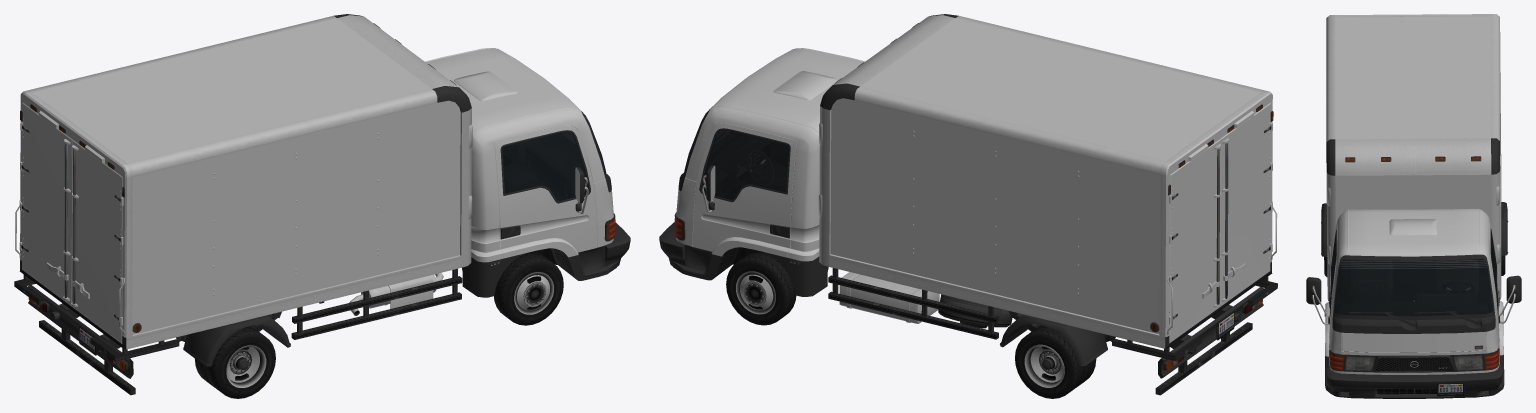
3 views of the same model, side by side, from view 1: azimuth 30°, elevation 25°; view 2: azimuth 150°, elevation 25°; view 3: azimuth 270°, elevation 25° (orthographic). The views are drawn at different scales.
Visible parts, largest first — view 1: LCT300095_Body_lct3000_Bodymat_0, LCT300095_Bottom_UCB_BOTTOM_0, LCT300095_Reardoor_Left_lct3000_Bodymat_0, LCT300095_Reardoor_Right_lct3000_Bodymat_0, LCT300095_Glass_Passenger_UCB_Lights_and_Glass_Transperent_0, LCT300095_Interior_UCB_Interiors_2_0, LCT300095_WheelStock_FR_RB1c_Tire_1k_0, LCT300095_WheelStock_RR_RB1c_Tire_1k_0, LCT300095_Bumper_rear_UCB_BOTTOM_0, LCT300095_Reardoor_Left_Inner_UCB_BOTTOM_0, LCT300095_Reardoor_Right_Inner_UCB_BOTTOM_0, LCT300095_Bumper_front_UCB_BOTTOM_0; view 2: LCT300095_Body_lct3000_Bodymat_0, LCT300095_Bottom_UCB_BOTTOM_0, LCT300095_Reardoor_Right_lct3000_Bodymat_0, LCT300095_Reardoor_Left_lct3000_Bodymat_0, LCT300095_Glass_Driver_UCB_Lights_and_Glass_Transperent_0, LCT300095_WheelStock_FL_RB1c_Tire_1k_0, LCT300095_WheelStock_RL_RB1c_Tire_1k_0, LCT300095_Interior_UCB_Interiors_2_0, LCT300095_Bumper_rear_UCB_BOTTOM_0, LCT300095_Reardoor_Right_Inner_UCB_BOTTOM_0, LCT300095_Reardoor_Left_Inner_UCB_BOTTOM_0, LCT300095_Bumper_front_UCB_BOTTOM_0; view 3: LCT300095_Body_lct3000_Bodymat_0, LCT300095_Bottom_UCB_BOTTOM_0, LCT300095_Windshield_UCB_Lights_and_Glass_Transperent_0, LCT300095_Interior_UCB_Interiors_2_0, LCT300095_Bumper_front_UCB_BOTTOM_0, LCT300095_Headlights_Glass_UCB_Lights_and_Glass_Transperent_, LCT300095_Headlights_UCB_Lights_and_Glass_0, LCT300095_Numberplate_front_Numberplates_Misk_U_0, LCT300095_Glass_Driver_UCB_Lights_and_Glass_Transperent_0.
Boxes of the visible parts, box(x1,y1,x2,y2) form: LCT300095_Body_lct3000_Bodymat_0: box(19, 18, 613, 337); LCT300095_Bottom_UCB_BOTTOM_0: box(14, 14, 615, 395); LCT300095_Reardoor_Left_lct3000_Bodymat_0: box(22, 102, 72, 306); LCT300095_Reardoor_Right_lct3000_Bodymat_0: box(72, 140, 122, 343); LCT300095_Glass_Passenger_UCB_Lights_and_Glass_Transperent_0: box(502, 132, 589, 201); LCT300095_Interior_UCB_Interiors_2_0: box(503, 134, 605, 200); LCT300095_WheelStock_FR_RB1c_Tire_1k_0: box(494, 253, 563, 325); LCT300095_WheelStock_RR_RB1c_Tire_1k_0: box(195, 326, 275, 398); LCT300095_Bumper_rear_UCB_BOTTOM_0: box(28, 285, 133, 378); LCT300095_Reardoor_Left_Inner_UCB_BOTTOM_0: box(21, 125, 70, 300); LCT300095_Reardoor_Right_Inner_UCB_BOTTOM_0: box(71, 145, 122, 320); LCT300095_Bumper_front_UCB_BOTTOM_0: box(605, 223, 630, 273); LCT300095_Body_lct3000_Bodymat_0: box(676, 18, 1272, 336); LCT300095_Bottom_UCB_BOTTOM_0: box(674, 14, 1277, 395); LCT300095_Reardoor_Right_lct3000_Bodymat_0: box(1219, 103, 1270, 306); LCT300095_Reardoor_Left_lct3000_Bodymat_0: box(1169, 139, 1220, 343); LCT300095_Glass_Driver_UCB_Lights_and_Glass_Transperent_0: box(701, 130, 788, 200); LCT300095_WheelStock_FL_RB1c_Tire_1k_0: box(726, 252, 796, 325); LCT300095_WheelStock_RL_RB1c_Tire_1k_0: box(1015, 325, 1096, 398); LCT300095_Interior_UCB_Interiors_2_0: box(685, 132, 788, 199); LCT300095_Bumper_rear_UCB_BOTTOM_0: box(1158, 287, 1263, 378); LCT300095_Reardoor_Right_Inner_UCB_BOTTOM_0: box(1221, 125, 1271, 301); LCT300095_Reardoor_Left_Inner_UCB_BOTTOM_0: box(1169, 144, 1221, 319); LCT300095_Bumper_front_UCB_BOTTOM_0: box(659, 222, 685, 273); LCT300095_Body_lct3000_Bodymat_0: box(1325, 16, 1503, 374); LCT300095_Bottom_UCB_BOTTOM_0: box(1306, 14, 1521, 388); LCT300095_Windshield_UCB_Lights_and_Glass_Transperent_0: box(1334, 258, 1493, 316); LCT300095_Interior_UCB_Interiors_2_0: box(1331, 239, 1497, 315); LCT300095_Bumper_front_UCB_BOTTOM_0: box(1325, 366, 1503, 398); LCT300095_Headlights_Glass_UCB_Lights_and_Glass_Transperent_: box(1329, 349, 1499, 371); LCT300095_Headlights_UCB_Lights_and_Glass_0: box(1345, 355, 1483, 370); LCT300095_Numberplate_front_Numberplates_Misk_U_0: box(1438, 384, 1462, 394); LCT300095_Glass_Driver_UCB_Lights_and_Glass_Transperent_0: box(1491, 232, 1497, 309).
Bounding box in the file's own units: 6.02 × 2.85 × 2.61.
Materials: 8 (7 with a texture image).
